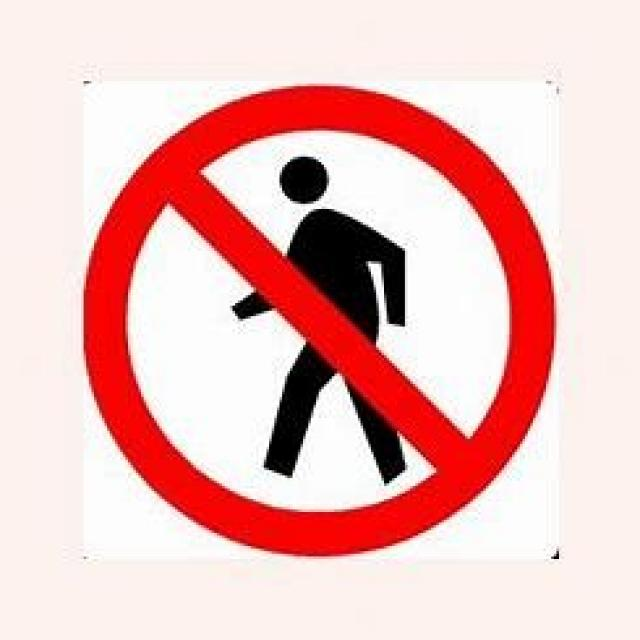PEDESTRIAN_PROHIBITED: (81, 81, 556, 554)
